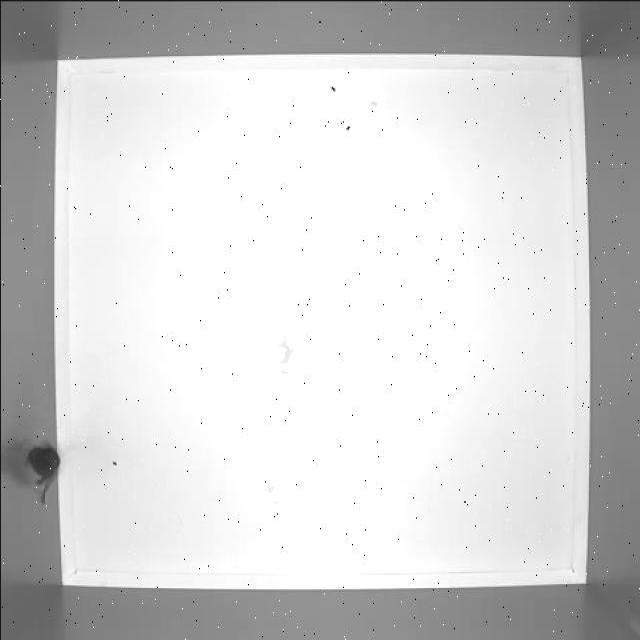rat: (22, 439, 60, 506)
